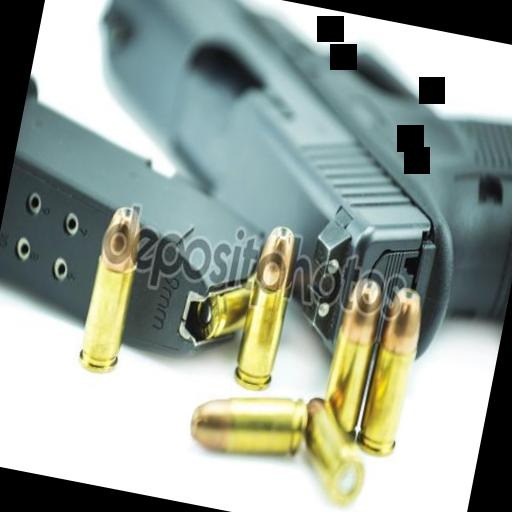Handgun: (49, 0, 512, 375)
